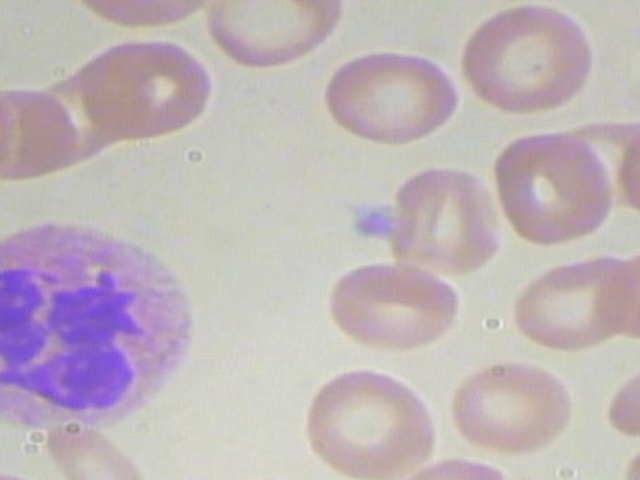Platelets: (349, 197, 399, 243)
RBC: (445, 0, 605, 122), (477, 130, 621, 245), (73, 30, 214, 146), (310, 46, 461, 154), (299, 364, 439, 480), (314, 259, 472, 361), (437, 357, 584, 457), (506, 249, 640, 353), (381, 164, 498, 277), (186, 0, 350, 71), (604, 351, 640, 443), (0, 77, 27, 194), (618, 117, 640, 226)
WBC: (0, 216, 216, 443)
